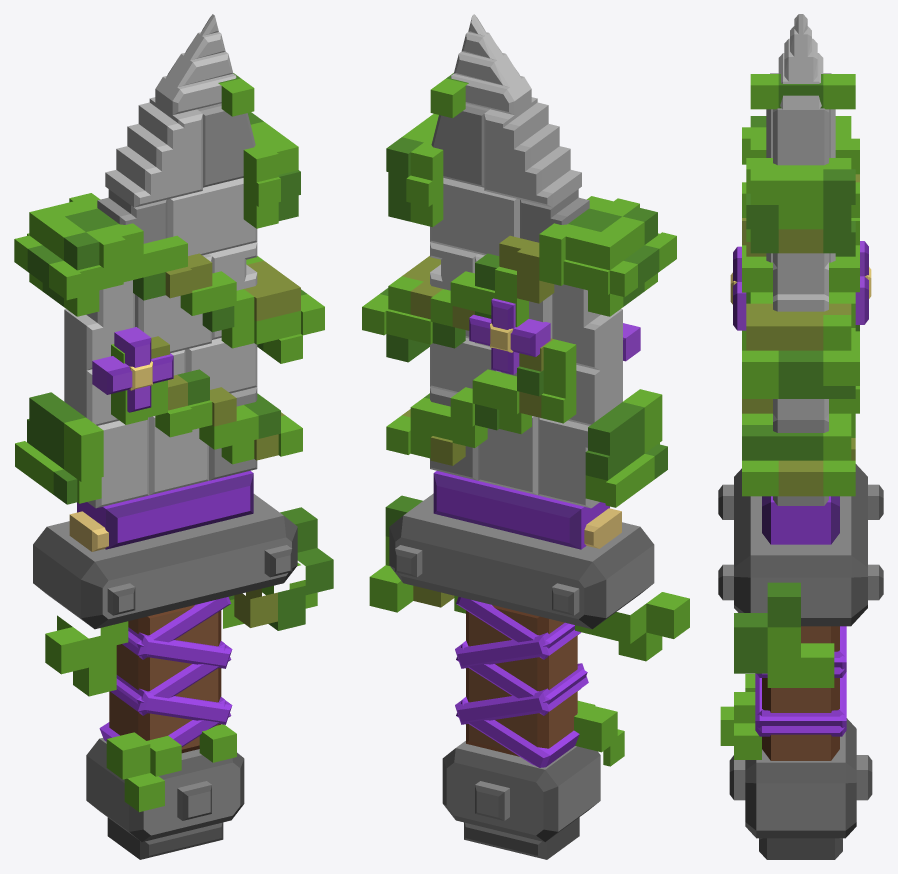
The model's file is BrambleShivs.glb.
3 renders of one model, left to right at view 1: azimuth 30°, elevation 25°; view 2: azimuth 150°, elevation 25°; view 3: azimuth 270°, elevation 25°, orthographic. The views are drawn at different scales.
Parts seen in each view (by area): view 1: Vines_Blade, Guard_Bar, Pommel_Block, Blade_Slab_5a, Collar_Band, Grip_Wood, Vines_Guard_R, Vines_Moss, Blade_Slab_4b, Vines_Guard_L, Blade_Slab_1a, Blade_Slab_3a (+22 smaller); view 2: Vines_Blade, Guard_Bar, Pommel_Block, Blade_Slab_5a, Grip_Wood, Collar_Band, Blade_Slab_4b, Blade_Slab_3a, Blade_Slab_1a, Vines_Guard_L, Blade_Slab_1b, Blade_Slab_5b (+22 smaller); view 3: Vines_Blade, Guard_Bar, Pommel_Block, Vines_Guard_R, Grip_Wood, Collar_Band, Blade_Slab_5b, Blade_Slab_3c, Vines_Moss, Pommel_Step, Wrap_2, Blade_Slab_1c (+16 smaller).
Boxes of the visible parts, x1,y1,x2,y2 form: Vines_Blade: (14, 73, 324, 504); Guard_Bar: (33, 494, 297, 629); Pommel_Block: (86, 738, 244, 841); Blade_Slab_5a: (105, 97, 202, 207); Collar_Band: (77, 470, 253, 549); Grip_Wood: (109, 605, 221, 753); Vines_Guard_R: (223, 507, 333, 630); Vines_Moss: (106, 724, 236, 812); Blade_Slab_4b: (167, 178, 257, 255); Vines_Guard_L: (45, 615, 128, 696); Blade_Slab_1a: (87, 417, 148, 508); Blade_Slab_3a: (64, 280, 134, 370); Vines_Blade: (362, 73, 676, 507); Guard_Bar: (389, 493, 654, 629); Pommel_Block: (442, 741, 600, 841); Blade_Slab_5a: (484, 97, 581, 207); Grip_Wood: (466, 605, 577, 756); Collar_Band: (433, 471, 609, 549); Blade_Slab_4b: (430, 178, 519, 255); Blade_Slab_3a: (552, 284, 622, 370); Blade_Slab_1a: (538, 417, 599, 508); Vines_Guard_L: (575, 592, 689, 661); Blade_Slab_1b: (478, 416, 538, 495); Blade_Slab_5b: (431, 103, 489, 187); Vines_Blade: (742, 74, 859, 496); Guard_Bar: (734, 464, 867, 626); Pommel_Block: (745, 718, 856, 838); Vines_Guard_R: (734, 582, 834, 687); Grip_Wood: (762, 626, 839, 760); Collar_Band: (762, 496, 839, 544); Blade_Slab_5b: (773, 108, 828, 165); Blade_Slab_3c: (773, 262, 828, 311); Vines_Moss: (720, 674, 761, 759); Pommel_Step: (759, 838, 842, 859); Wrap_2: (755, 672, 846, 736); Blade_Slab_1c: (773, 414, 828, 505).
Size of the model in its own units: 0.295 by 0.84 by 0.148.
